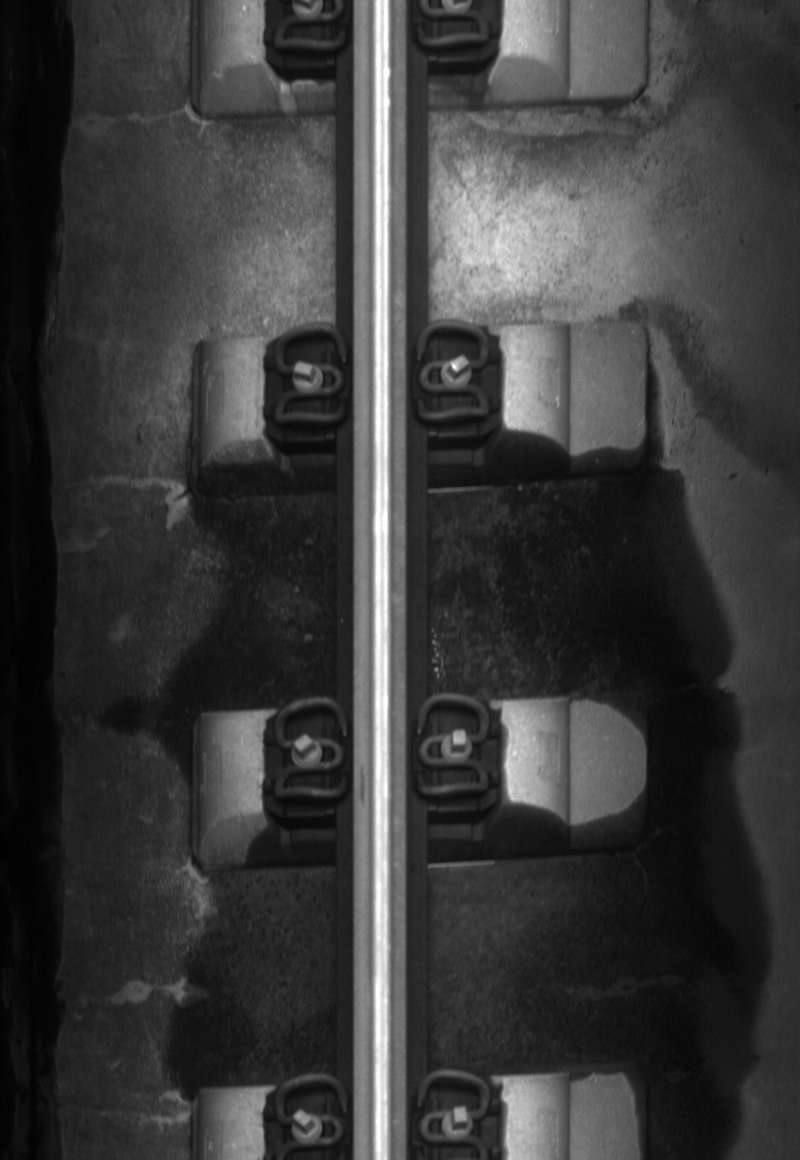l_faster: (269, 690, 352, 812), (267, 319, 352, 435)
r_faster: (407, 316, 498, 438), (409, 686, 494, 804)
